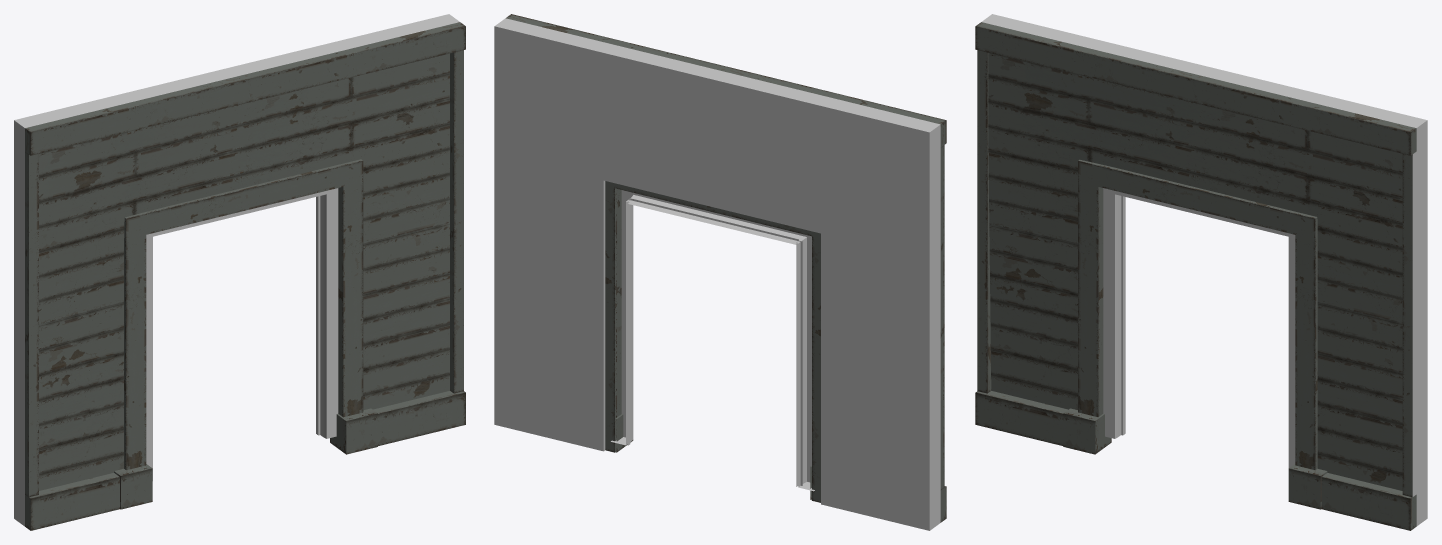
The model's file is SM_EWall400DDoor.FBX.
The picture shows the model from 3 angles, left to right: view 1: azimuth 30°, elevation 25°; view 2: azimuth 150°, elevation 25°; view 3: azimuth 330°, elevation 25°; orthographic projection.
Parts seen in each view (by area): view 1: SM_EWall400DDoor; view 2: SM_EWall400DDoor; view 3: SM_EWall400DDoor.
Boxes of the visible parts, box(x1,y1,x2,y2) form: SM_EWall400DDoor: box(14, 14, 465, 530); SM_EWall400DDoor: box(494, 14, 946, 530); SM_EWall400DDoor: box(975, 14, 1427, 530).
Size of the model in its own units: 400 by 350 by 28.49.
